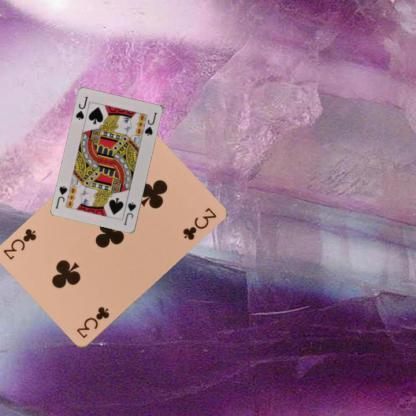3c: (74, 304, 110, 340)
Js: (122, 199, 138, 226), (74, 95, 90, 122)
